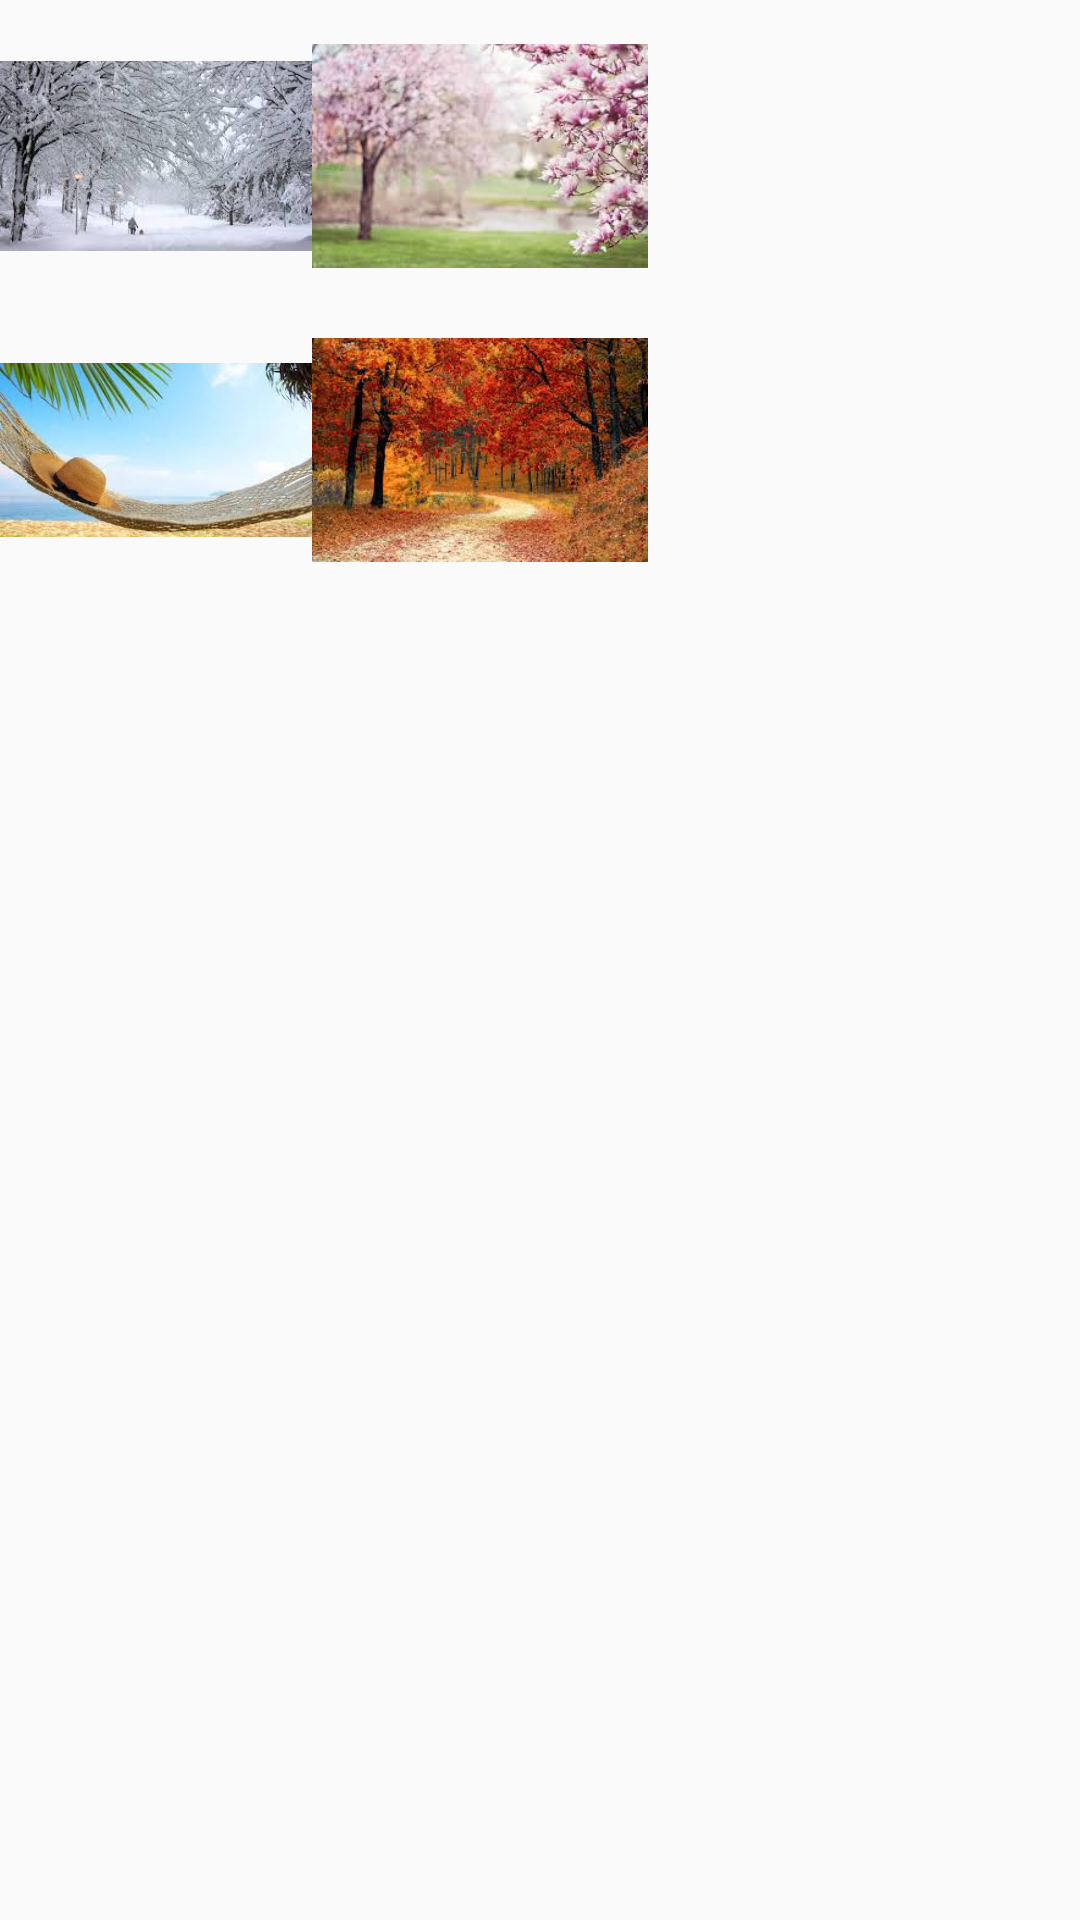

Screen size 1080 × 1920. Icon name, then its box in pixels as BBox(x1, y1, x2, y2):
auto: BBox(312, 338, 648, 562)
ete: BBox(0, 363, 312, 537)
hiver: BBox(0, 61, 312, 251)
